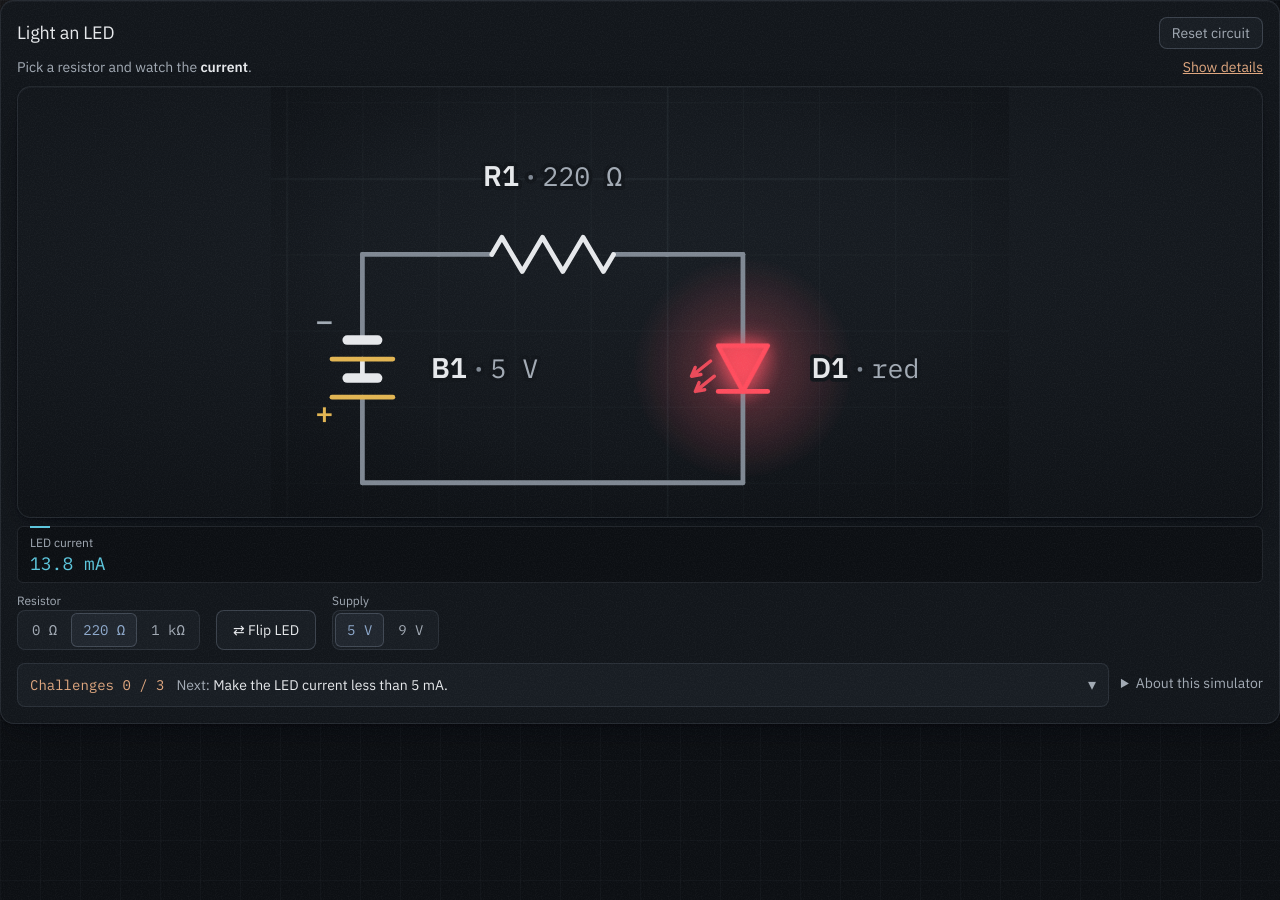
Test case: Lab › updates the readout when a control changes and completes a satisfied challenge
expect the text "Dimmer, and safer!" is not shown: met
What coordinates should you click on to do the following:
click the radio button labelled "1 kΩ"
I would click on:
 (168, 630)
Its box is [151,621,185,639].
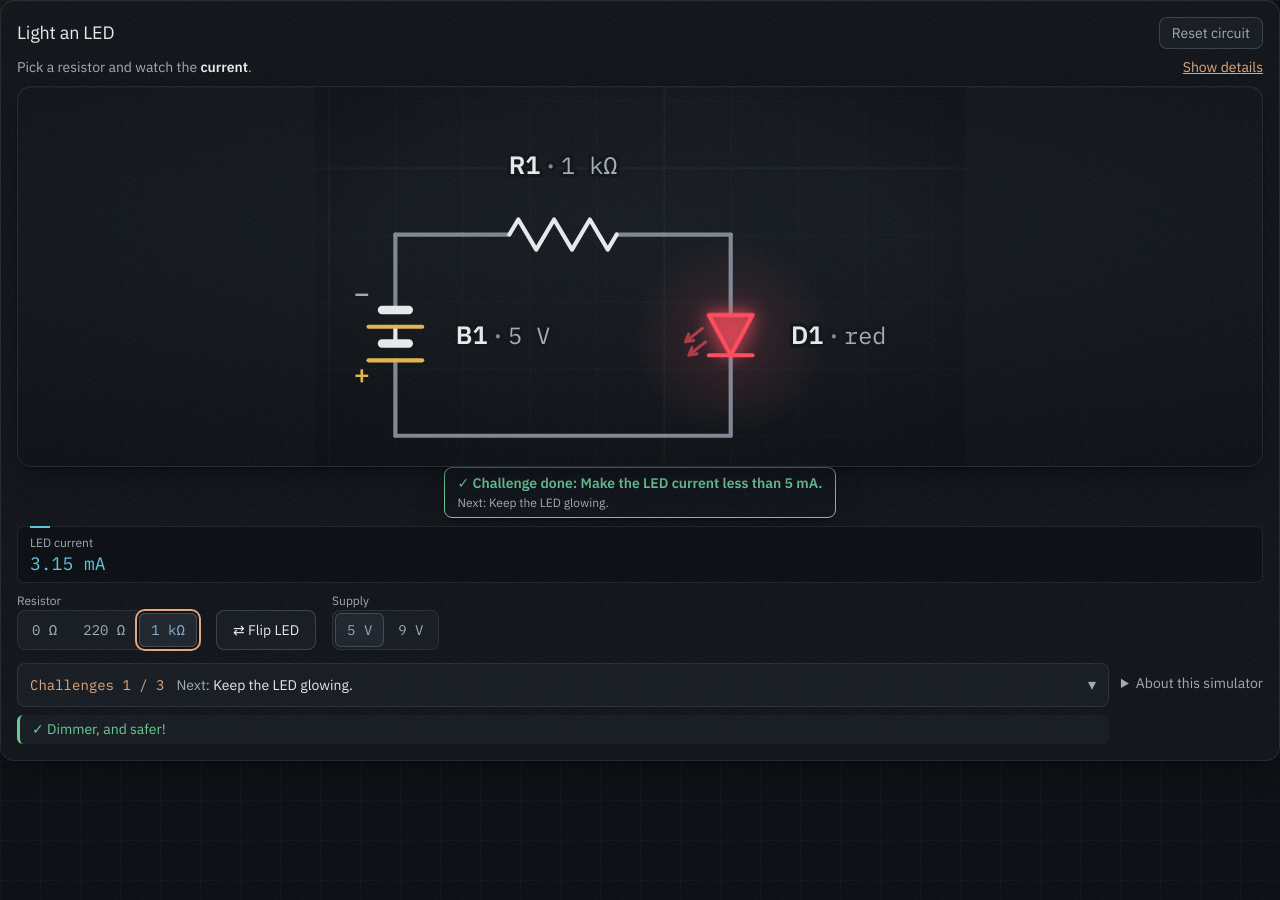
expect the button with class "lab-tray-flash" shows "Dimmer, and safer!": met, box [17,715,1109,744]
